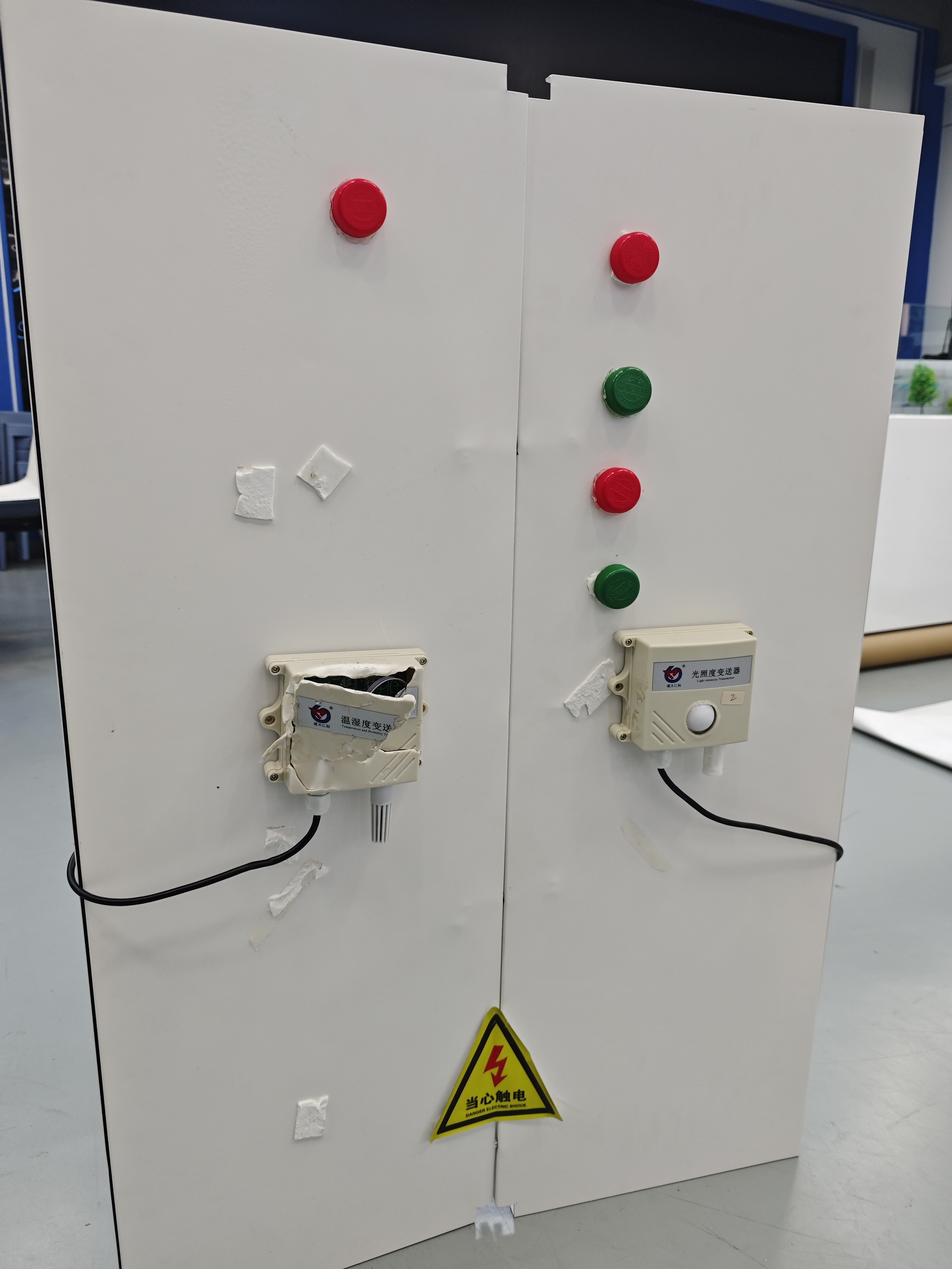red_warning: (571, 209, 693, 318), (323, 163, 402, 261)
sensor_damage: (247, 627, 461, 877)
